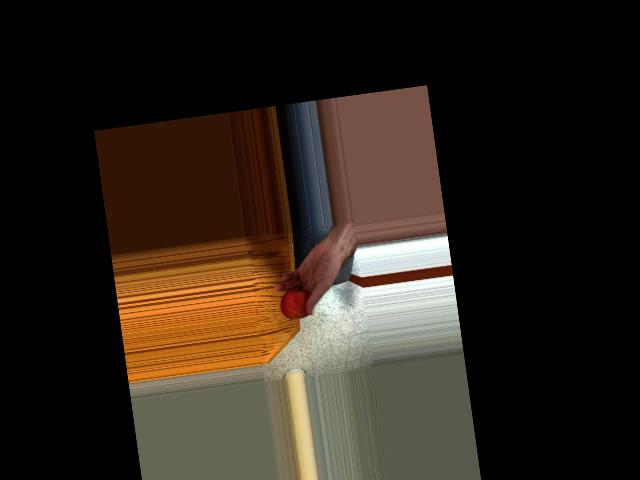apple: (277, 285, 312, 323)
